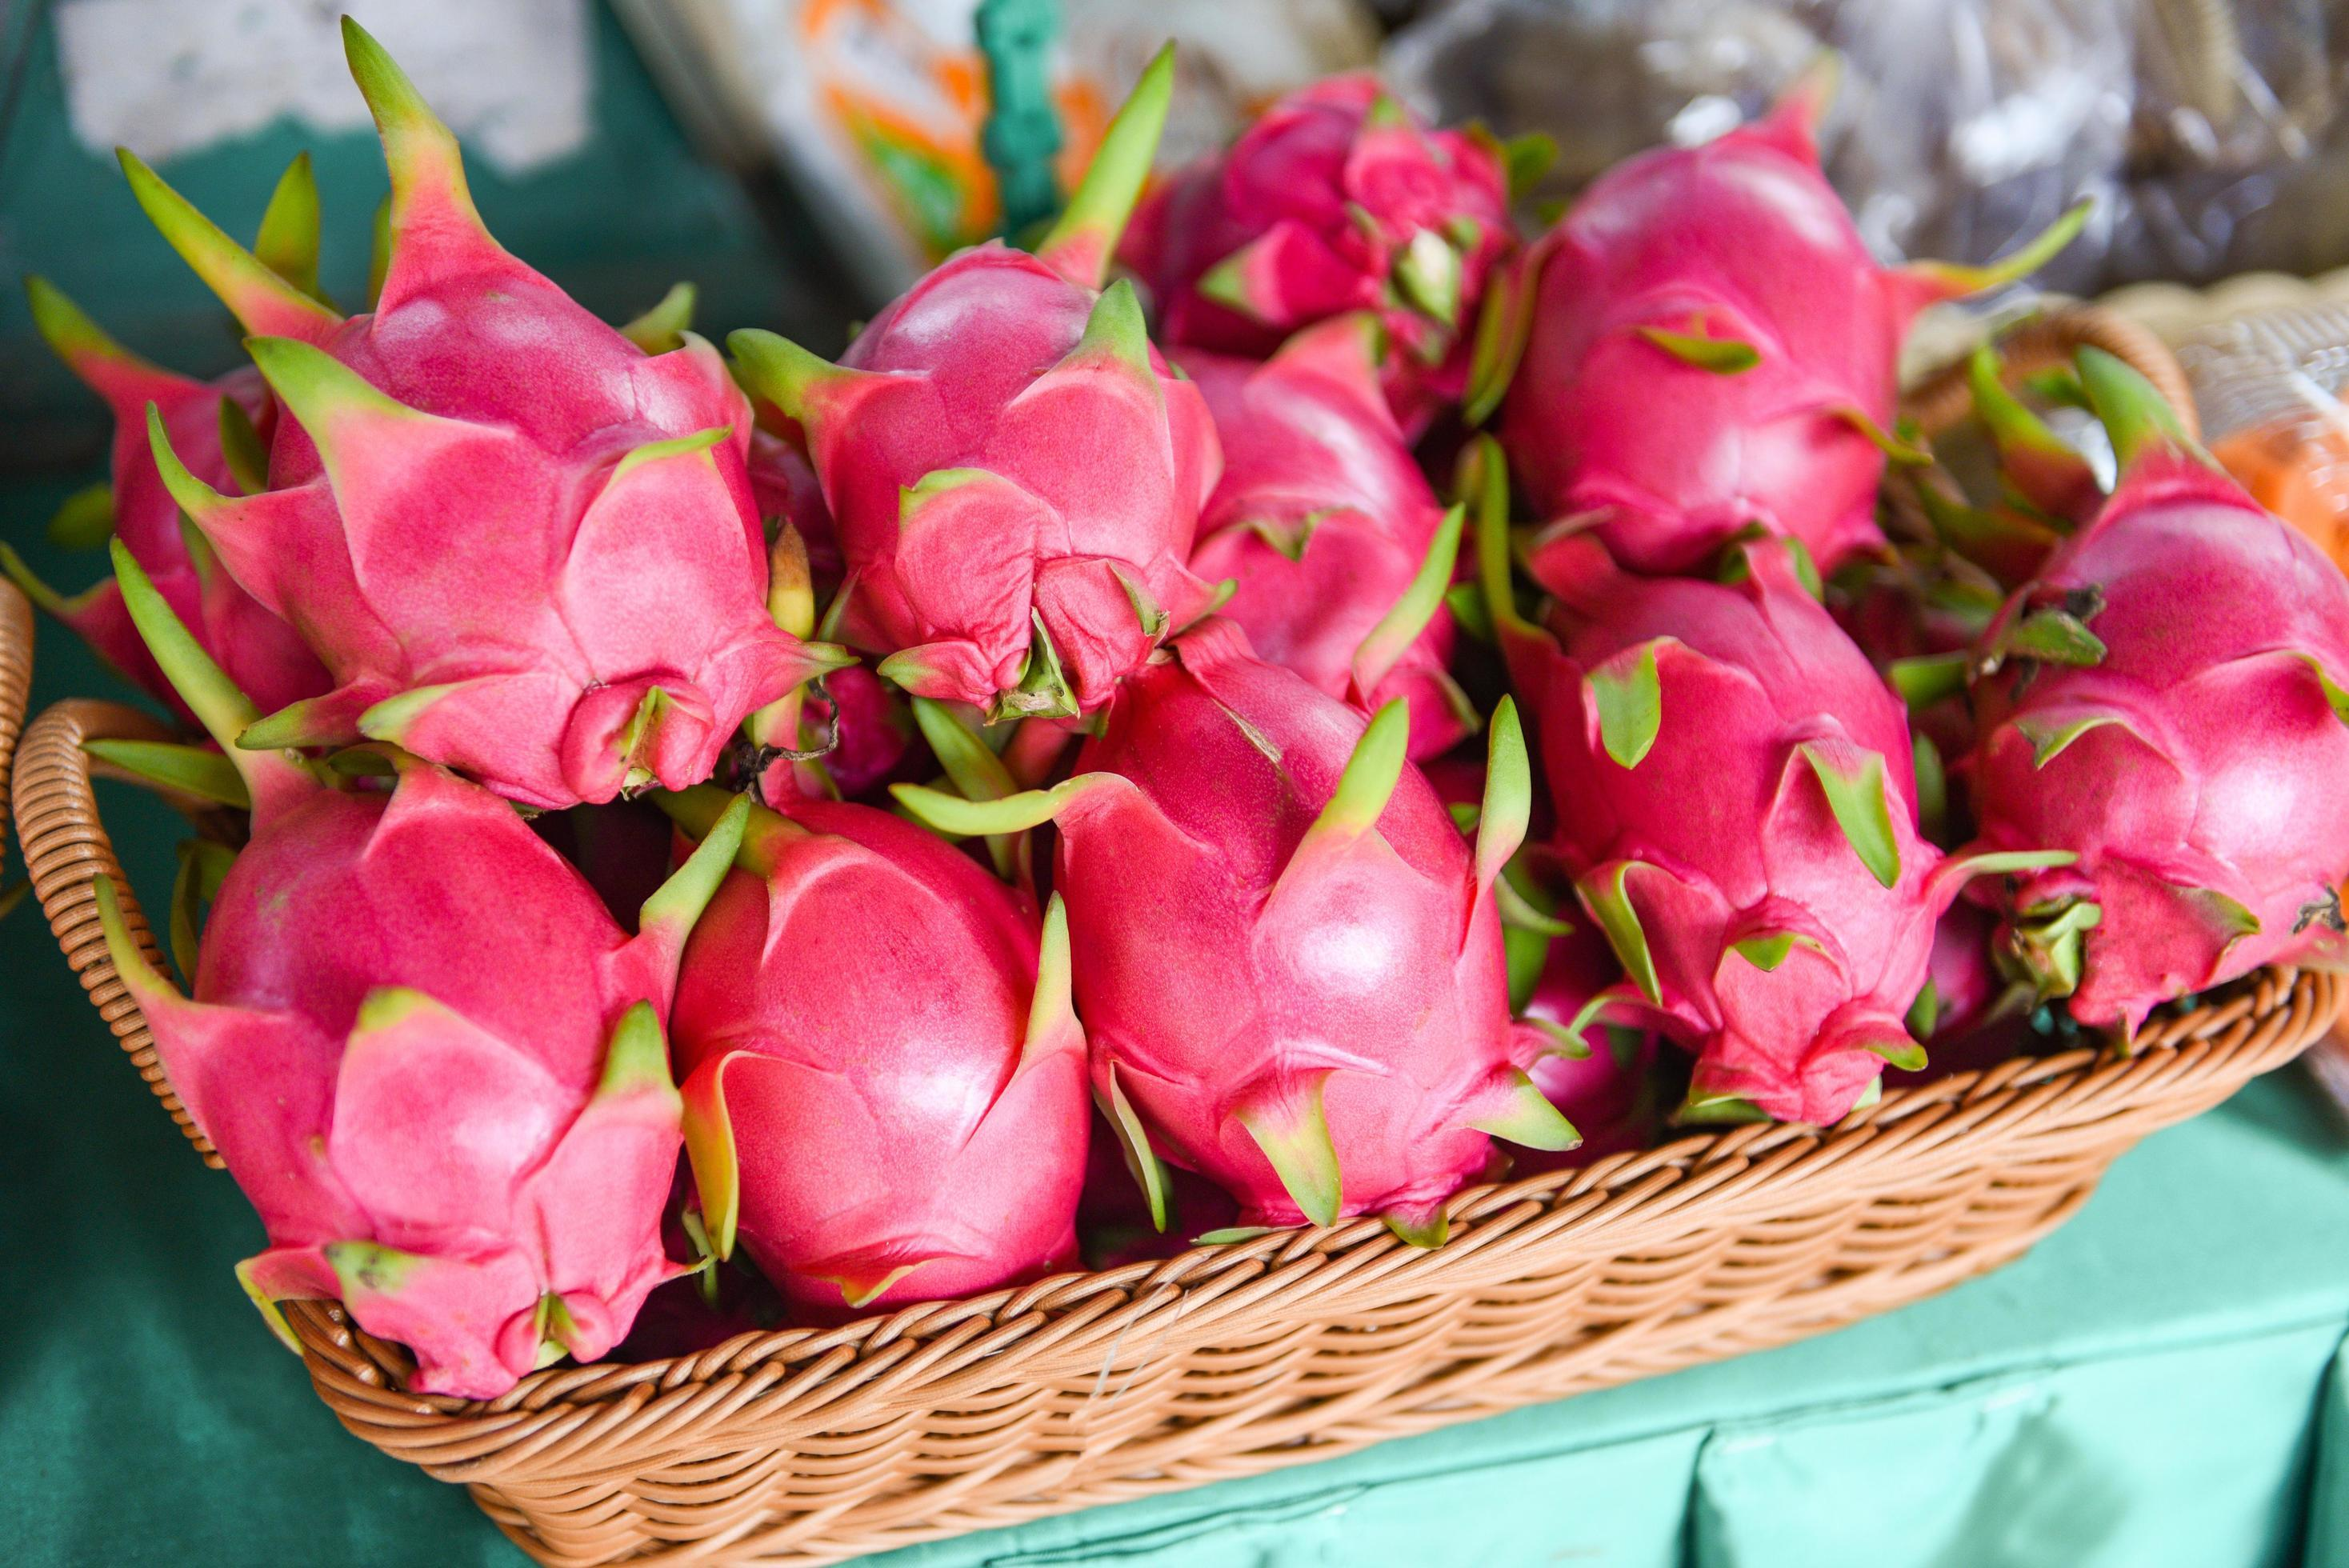dragon fruit: (32, 21, 782, 803), (42, 761, 686, 1414), (737, 40, 1239, 759), (1033, 588, 1577, 1242), (1488, 523, 1988, 1197), (630, 747, 1113, 1360), (1483, 44, 1980, 581), (1952, 446, 2349, 1036)
